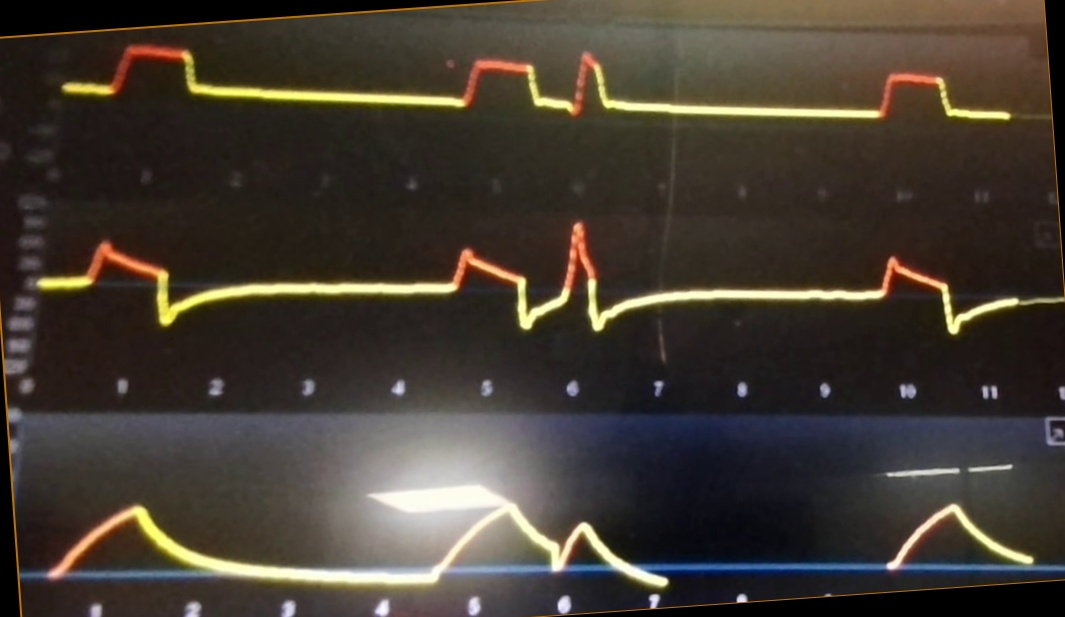Double_Triggering Flow: (60, 197, 965, 344)
Double_Triggering Volume: (52, 480, 955, 591)
